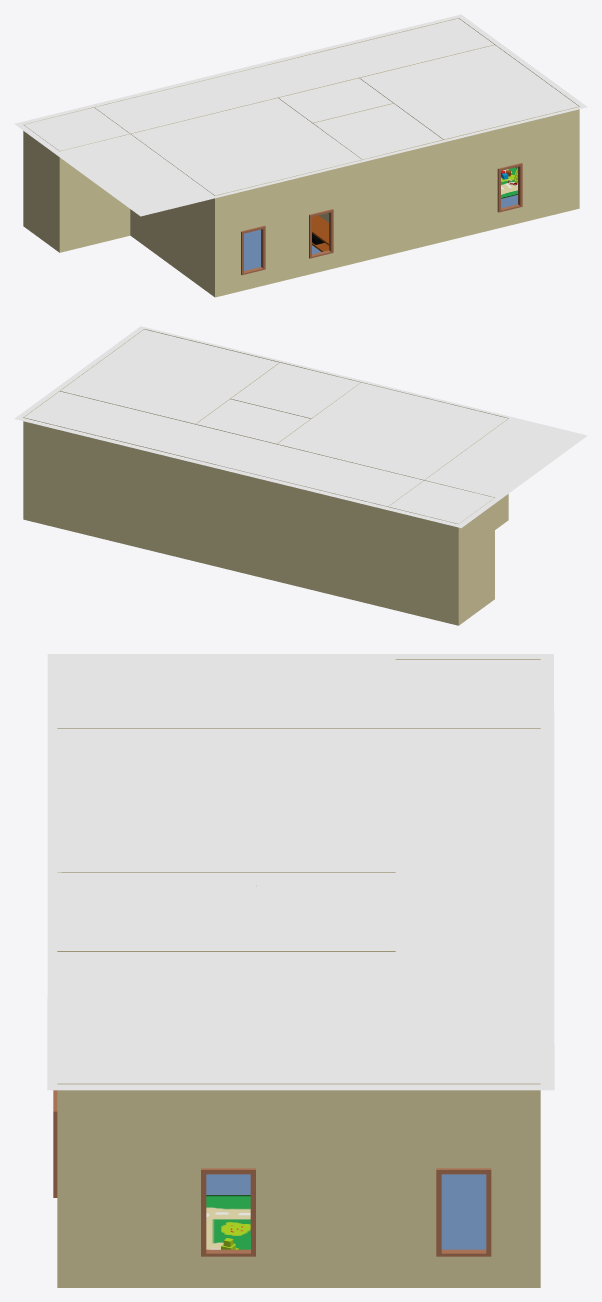
File: Body&Mind_location_v7.fbx
3 views of the same model, one above another, from view 1: azimuth 30°, elevation 25°; view 2: azimuth 150°, elevation 25°; view 3: azimuth 270°, elevation 25° (orthographic). The views are drawn at different scales.
Visible parts, largest first — view 1: Ceil, Pensils_Rocket, WindowFrame1.001, Table2; view 2: Ceil, Pensils_Rocket; view 3: Ceil, Pensils_Rocket, WindowFrame1.001, Plane.
Part boxes in pixels (box(x1,y1,x2,y2)): Ceil: box(14, 14, 587, 216); Pensils_Rocket: box(23, 18, 579, 297); WindowFrame1.001: box(241, 163, 522, 275); Table2: box(312, 215, 328, 251); Ceil: box(14, 326, 587, 528); Pensils_Rocket: box(23, 329, 508, 625); Ceil: box(47, 654, 554, 1090); Pensils_Rocket: box(57, 659, 540, 1287); WindowFrame1.001: box(53, 1090, 491, 1256); Plane: box(206, 1195, 250, 1249).
Bounding box in the file's own units: 4151 × 925 × 2038.
1 material, 1 textured.
